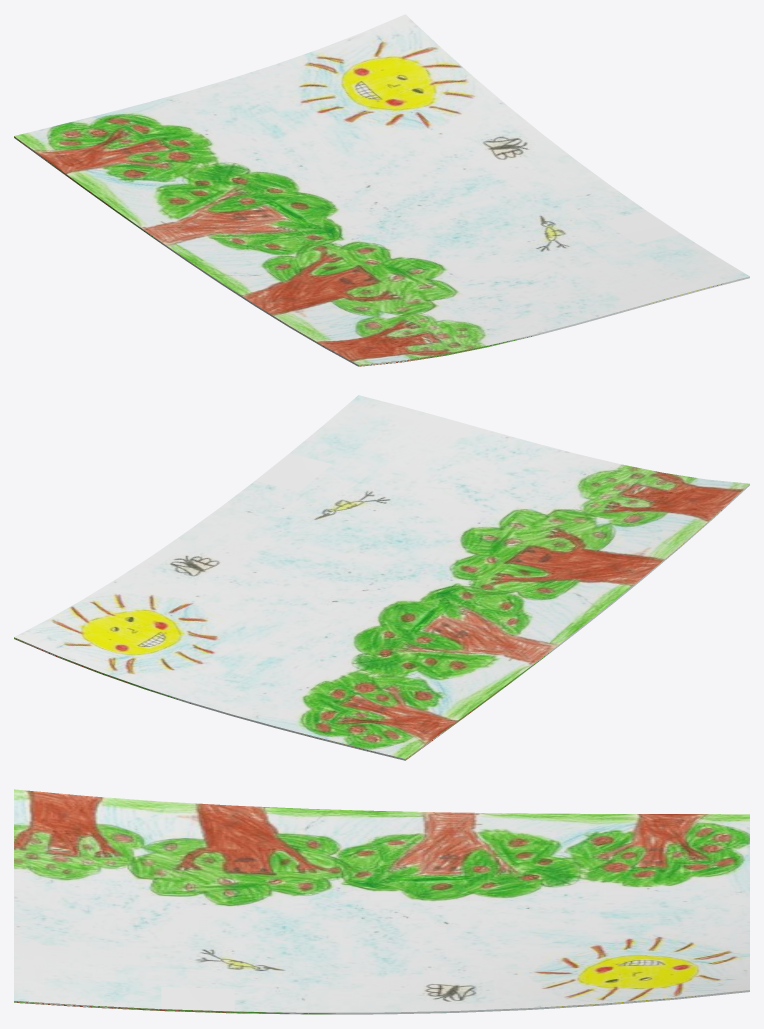
The model's file is Paper 1.FBX.
3 views of the same model, one above another, from view 1: azimuth 30°, elevation 25°; view 2: azimuth 150°, elevation 25°; view 3: azimuth 270°, elevation 25° (orthographic). The views are drawn at different scales.
Parts seen in each view (by area): view 1: Paper 1; view 2: Paper 1; view 3: Paper 1.
Boxes of the visible parts, <box> form: Paper 1: <box>14,14,749,366</box>; Paper 1: <box>14,395,749,760</box>; Paper 1: <box>14,789,749,1014</box>.
Bounding box in the file's own units: 21.15 × 1.45 × 32.23.
1 material, 1 textured.
